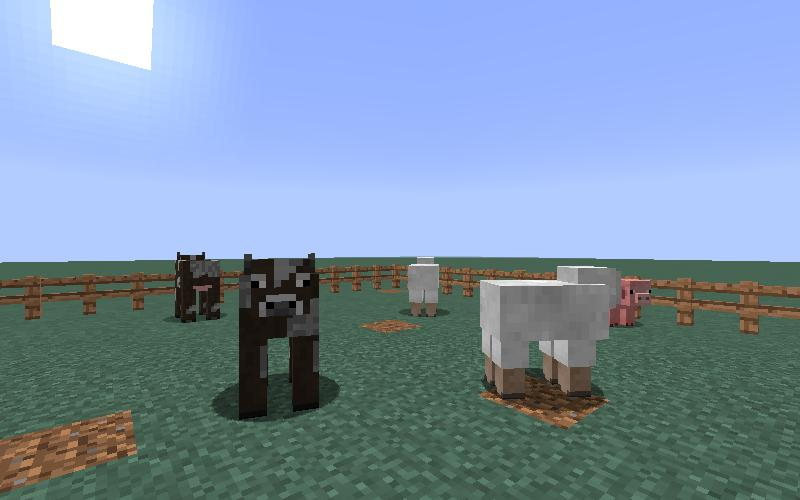cow: (233, 251, 325, 419), (171, 247, 222, 331)
pig: (619, 278, 653, 330)
sheep: (471, 252, 619, 414), (400, 251, 448, 320)
